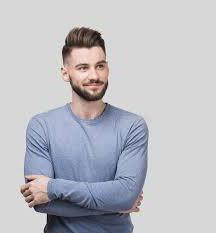Sober: (70, 46, 110, 99)
